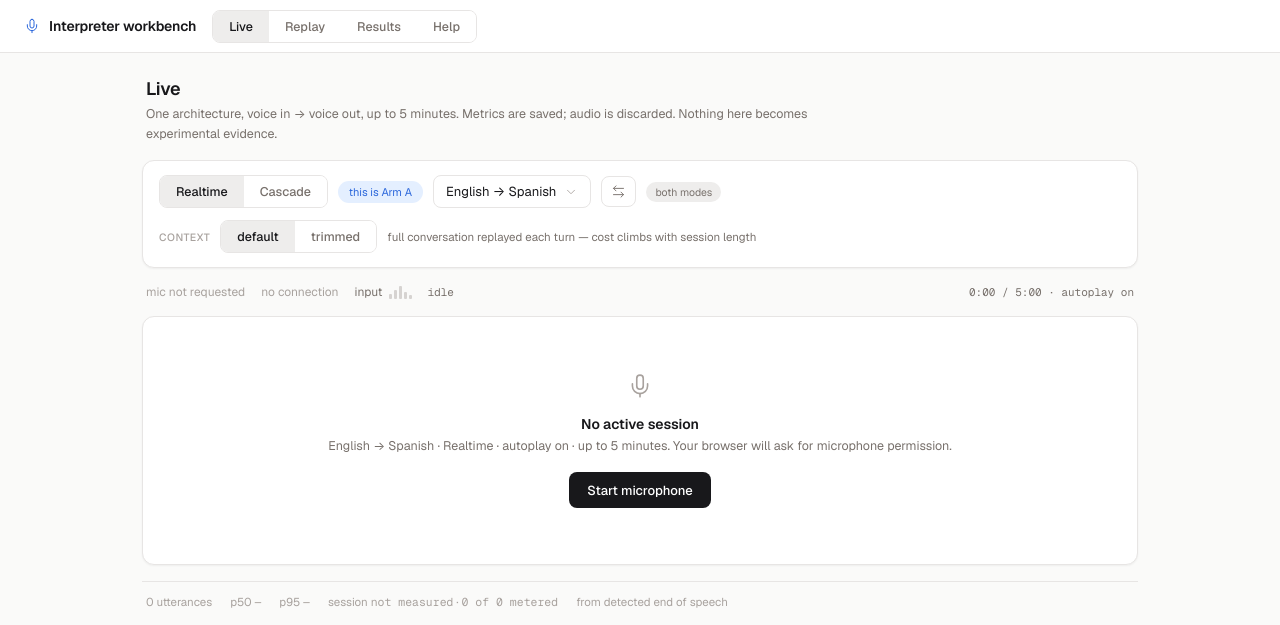
mic permission: live four-value indicator › requesting while the browser prompt is open — never optimistic
Click the button "Start microphone".
click(640, 490)  # box [569,472,711,508]
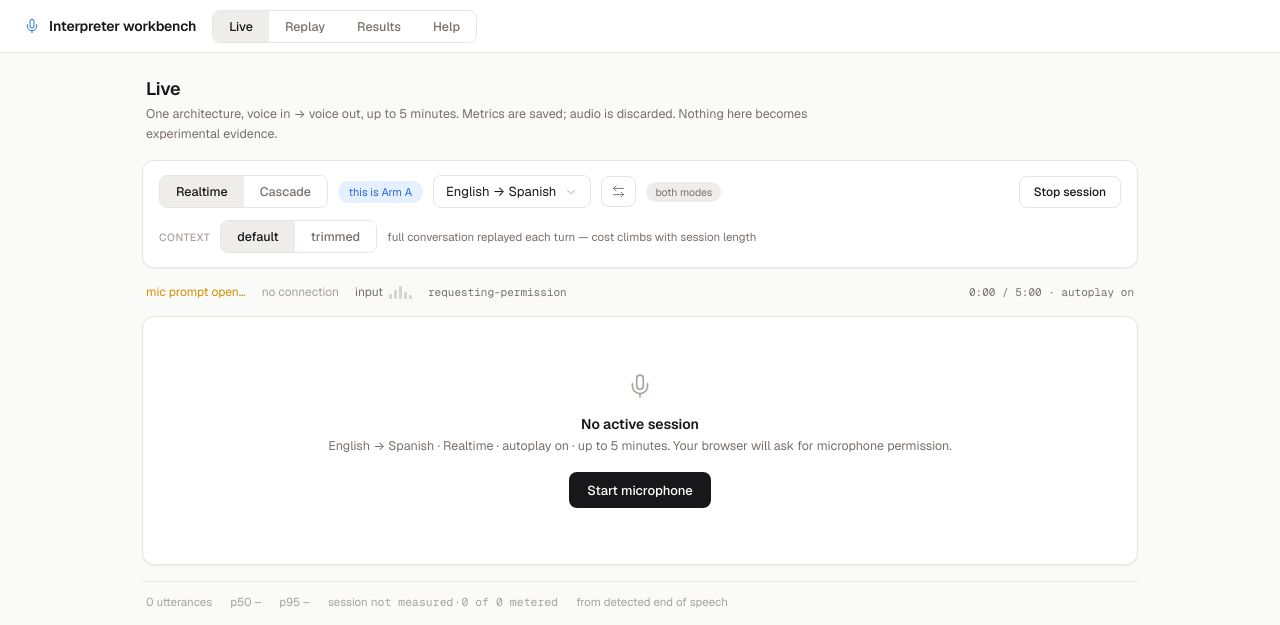
Now the text "mic prompt open…" is shown, box [146,284,246,300]
